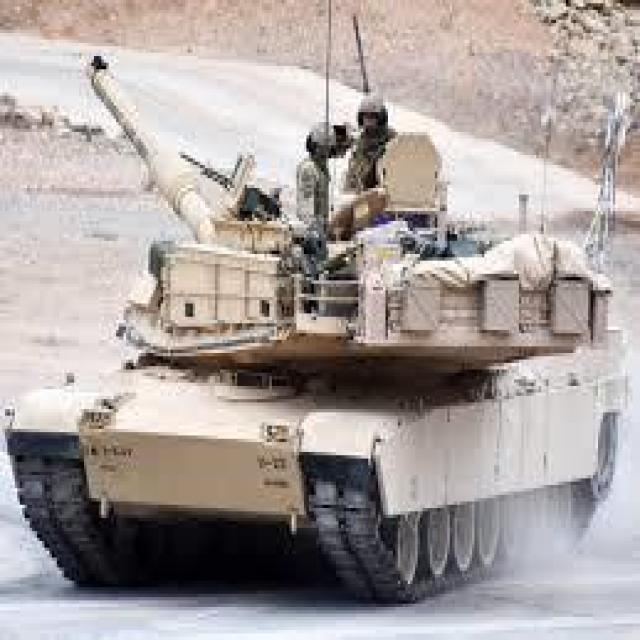MIL_MBT: (15, 10, 625, 624)
